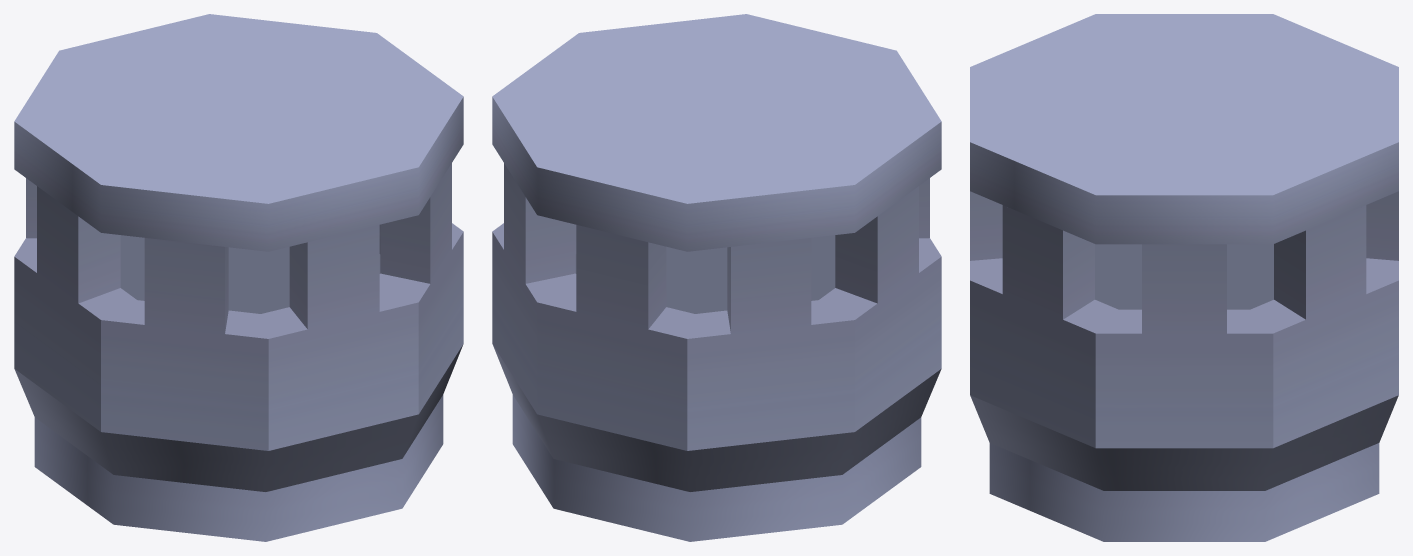
Rendered from kenney-pirate-tower-watch.glb.
The picture shows the model from 3 angles, left to right: view 1: azimuth 30°, elevation 25°; view 2: azimuth 150°, elevation 25°; view 3: azimuth 270°, elevation 25°; orthographic projection. The views are drawn at different scales.
Parts seen in each view (by area): view 1: tower-watch; view 2: tower-watch; view 3: tower-watch.
Part boxes in pixels (x1,y1,x2,y2): tower-watch: (14, 14, 463, 541); tower-watch: (492, 14, 941, 541); tower-watch: (970, 14, 1398, 541).
Bounding box in the file's own units: 3.05 × 2.78 × 3.05.
Materials: 1 (1 with a texture image).
